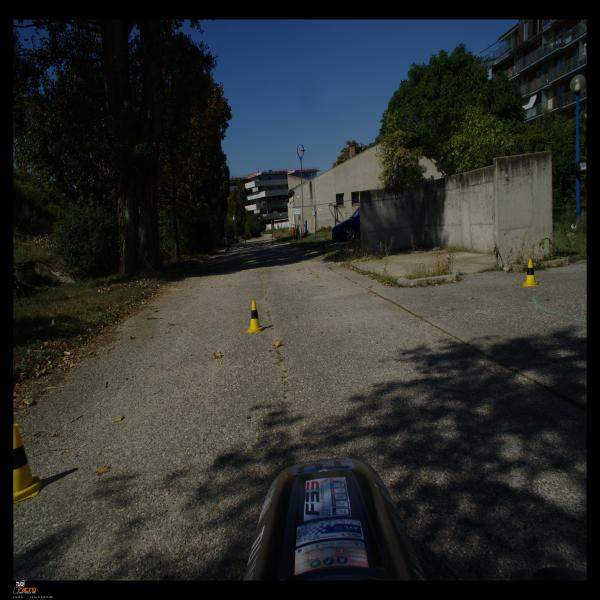yellow_cone: (14, 424, 40, 500), (245, 300, 265, 333), (522, 259, 538, 287)
